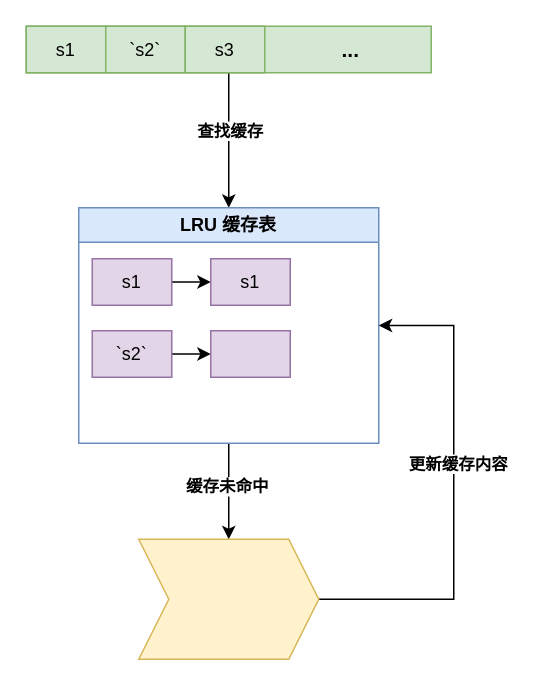
The diagram is 533 pixels wide and 686 high, and some of its shapes have lost their labels. The box of each missing label's shape, as (x1, y1, x2, y2) in pixels:
s2: (209, 329, 290, 377)
序列 ID 校验: (137, 538, 319, 659)
